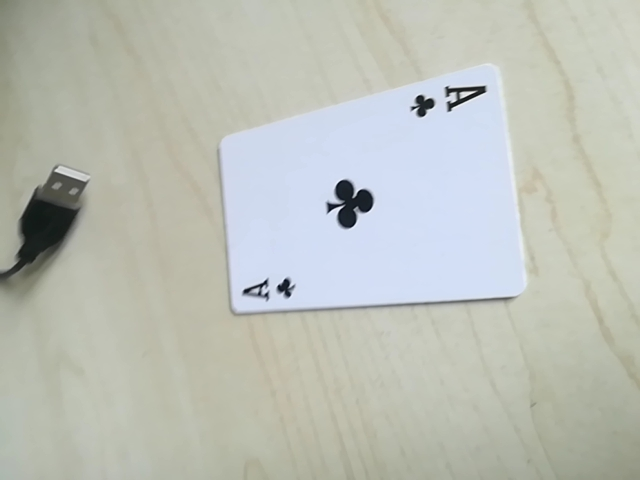mh a: (404, 80, 493, 126), (236, 268, 304, 310)
